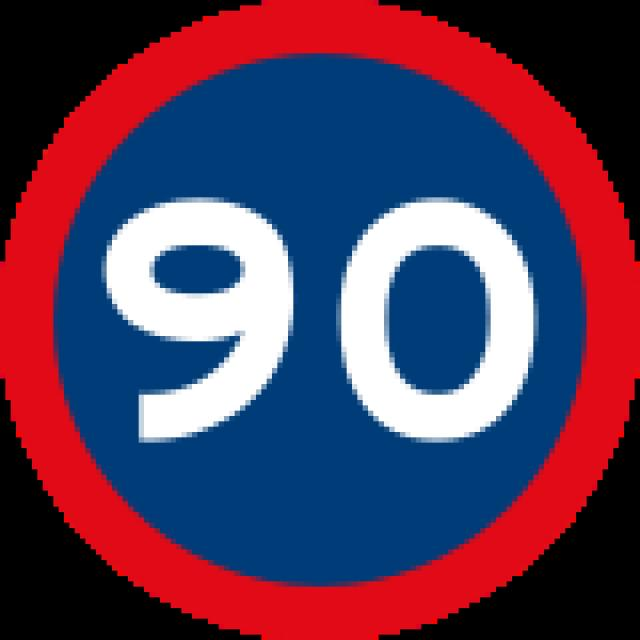Speed Limit -90-: (95, 188, 541, 466)
